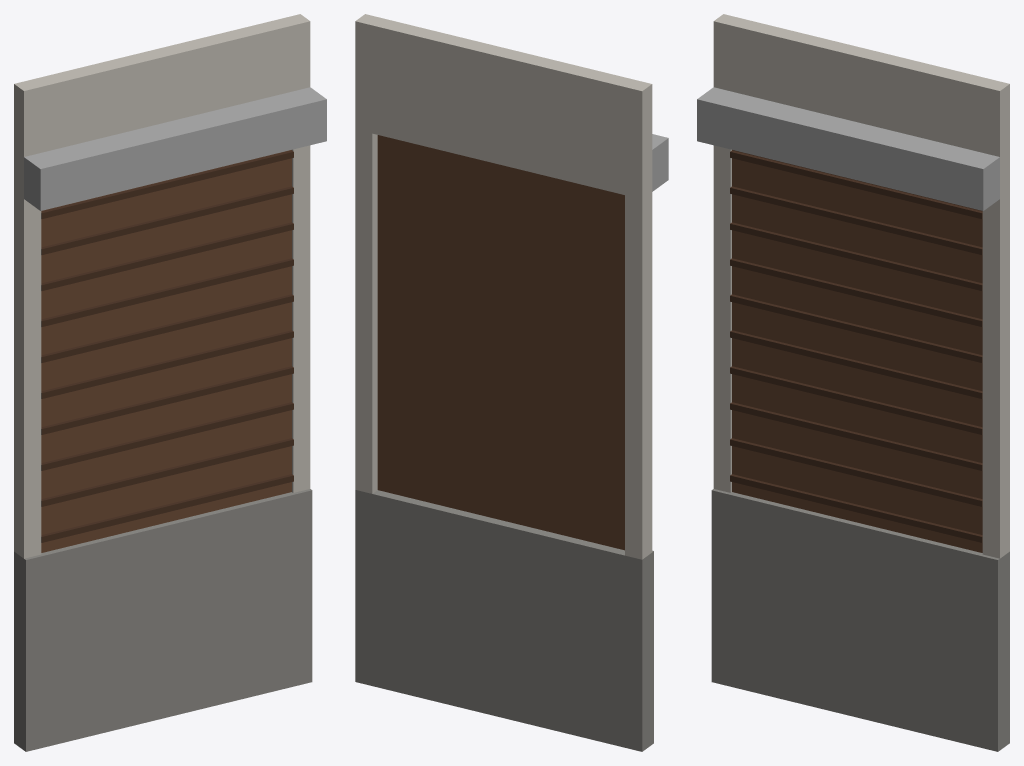
Rendered from shed_door.obj.
The picture shows the model from 3 angles, left to right: view 1: azimuth 30°, elevation 25°; view 2: azimuth 150°, elevation 25°; view 3: azimuth 330°, elevation 25°; orthographic projection.
Size of the model in its own units: 2.5 by 5.5 by 0.4.
